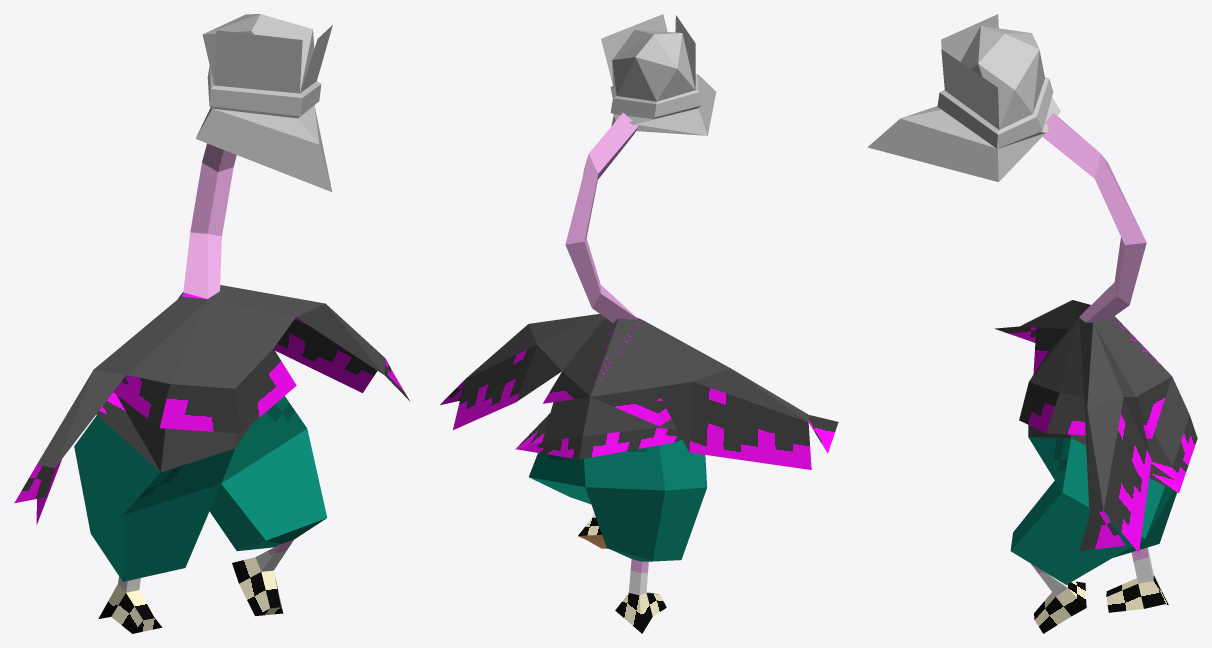
The model's file is ost51.obj.
3 views of the same model, side by side, from view 1: azimuth 30°, elevation 25°; view 2: azimuth 150°, elevation 25°; view 3: azimuth 270°, elevation 25° (orthographic). The views are drawn at different scales.
Parts seen in each view (by area): view 1: Cube, Icosphere; view 2: Cube, Icosphere; view 3: Cube, Icosphere.
Boxes of the visible parts, box(x1,y1,x2,y2) form: Cube: box(14, 143, 409, 633); Icosphere: box(195, 14, 332, 191); Cube: box(440, 113, 838, 633); Icosphere: box(601, 14, 716, 135); Cube: box(995, 113, 1197, 633); Icosphere: box(867, 14, 1060, 181).
Bounding box in the file's own units: 10.42 × 15.17 × 7.51.
